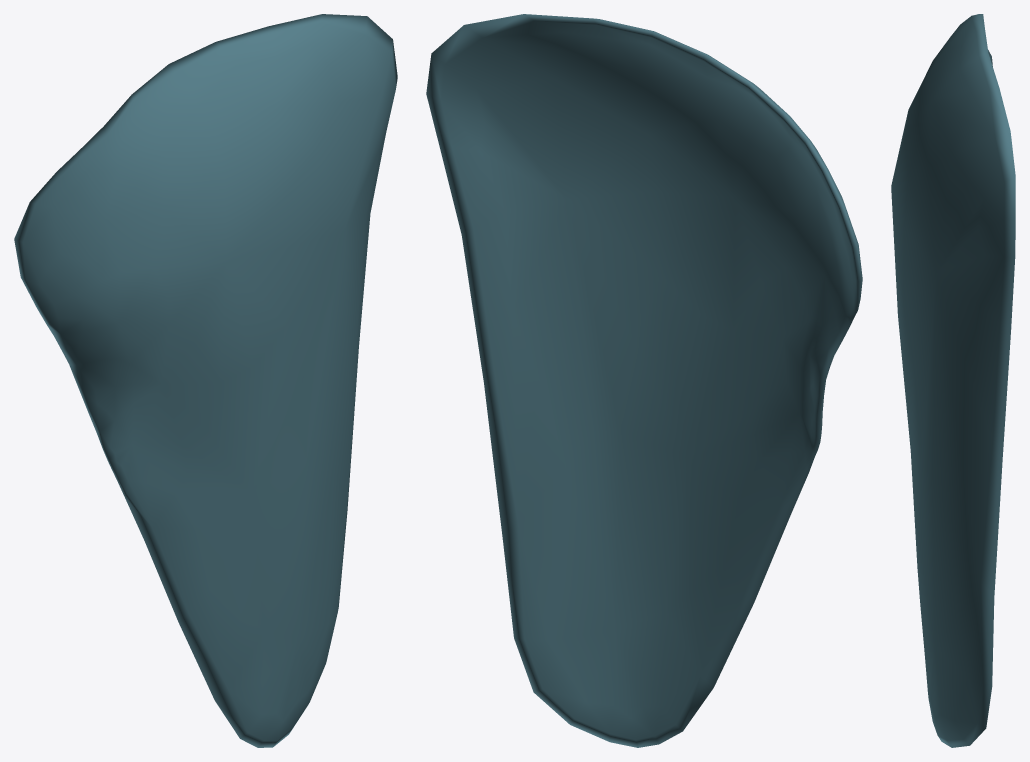
File: Patellar_tendon_anterior_tibial_tuberosity_right.glb
3 renders of one model, left to right at view 1: azimuth 30°, elevation 25°; view 2: azimuth 150°, elevation 25°; view 3: azimuth 270°, elevation 25°, orthographic. The views are drawn at different scales.
Visible parts, largest first — view 1: Patellar_tendon_on_anterior_tibial_tuberosity.r_Generated_Me; view 2: Patellar_tendon_on_anterior_tibial_tuberosity.r_Generated_Me; view 3: Patellar_tendon_on_anterior_tibial_tuberosity.r_Generated_Me.
Part boxes in pixels (bbox=[...]): Patellar_tendon_on_anterior_tibial_tuberosity.r_Generated_Me: bbox=[14, 14, 397, 747]; Patellar_tendon_on_anterior_tibial_tuberosity.r_Generated_Me: bbox=[426, 14, 862, 747]; Patellar_tendon_on_anterior_tibial_tuberosity.r_Generated_Me: bbox=[891, 14, 1015, 747].
Size of the model in its own units: 0.0215 by 0.0365 by 0.00591.
